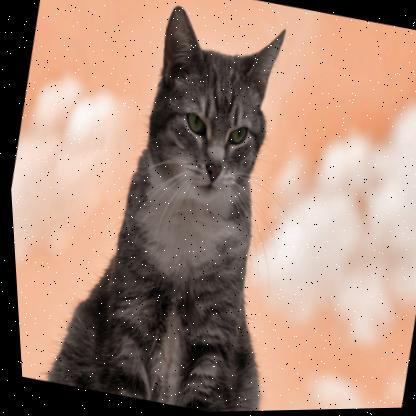cat: (70, 0, 313, 414)
